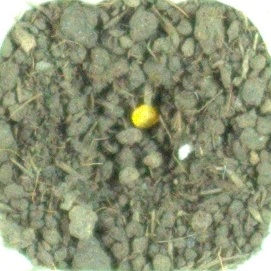chilli seed: (130, 103, 162, 129)
